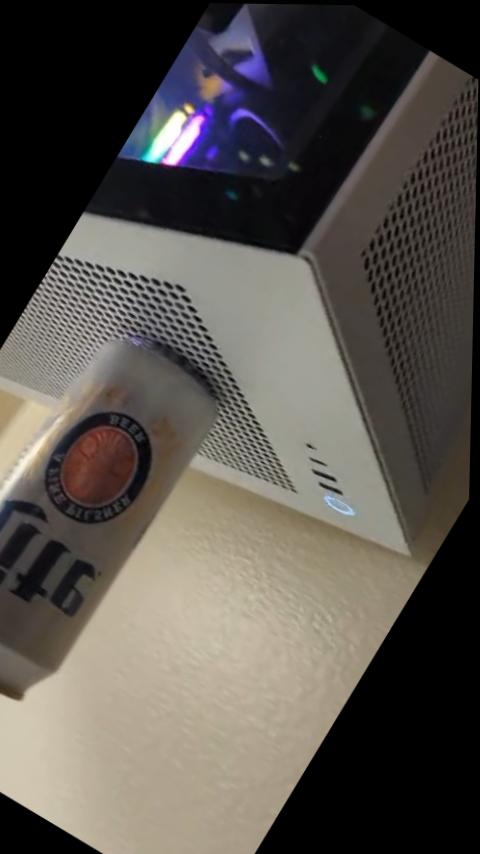metal: (0, 340, 217, 699)
